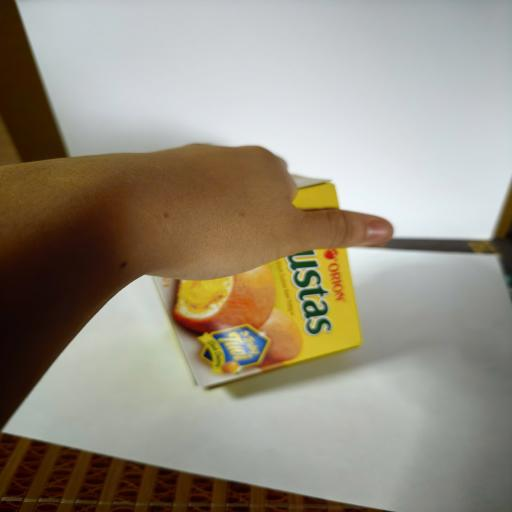custas: (152, 174, 362, 390)
